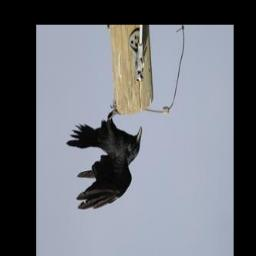Crow: (64, 102, 143, 213)
